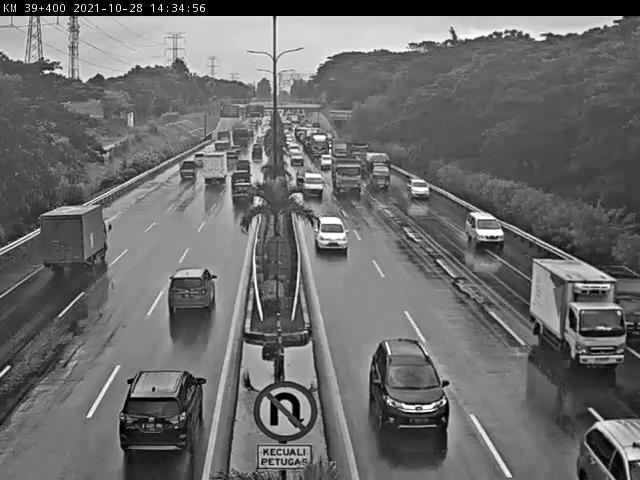big truck: (332, 158, 364, 197)
car: (104, 364, 211, 464), (369, 337, 452, 431), (157, 256, 220, 338), (572, 409, 640, 480), (609, 269, 640, 349), (308, 212, 348, 259), (470, 207, 506, 247), (403, 171, 433, 199), (299, 168, 325, 197), (225, 187, 251, 214), (173, 161, 196, 184), (231, 177, 248, 188)
small truck: (529, 257, 617, 373), (31, 197, 121, 287), (191, 150, 227, 198), (368, 156, 392, 190), (192, 315, 196, 332)
